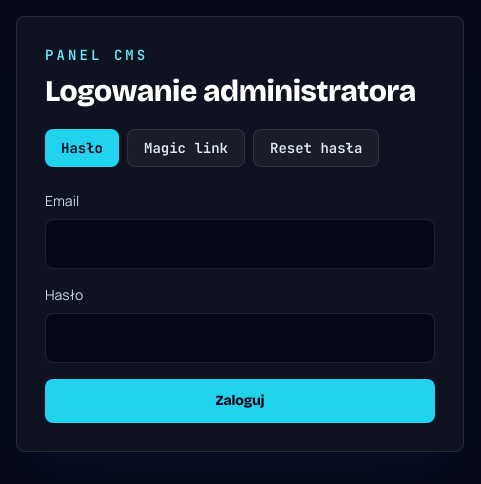
Test: LoginPanel › renders magic link and password recovery modes
Click the button "Magic link" at [186, 148], box [127, 129, 245, 167]
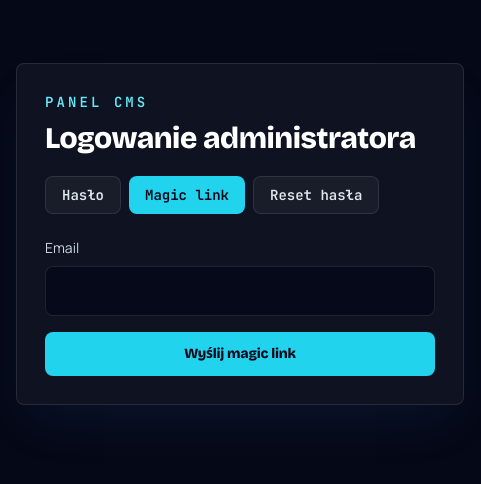
Check: the button "Wyślij magic link" is shown, box [45, 332, 435, 376]
Click the button "Reset hasła" at [316, 195], box [253, 176, 379, 214]
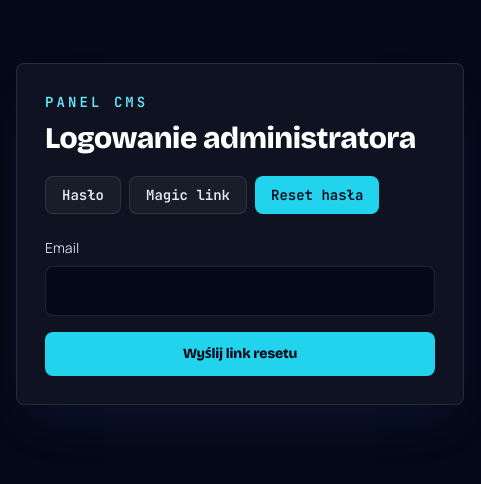
Check: the button "Wyślij link resetu" is shown, box [45, 332, 435, 376]
